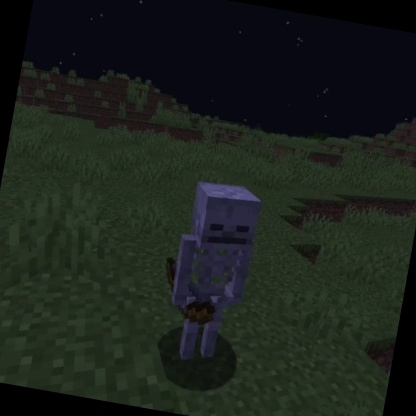skeleton: (148, 172, 269, 373)
